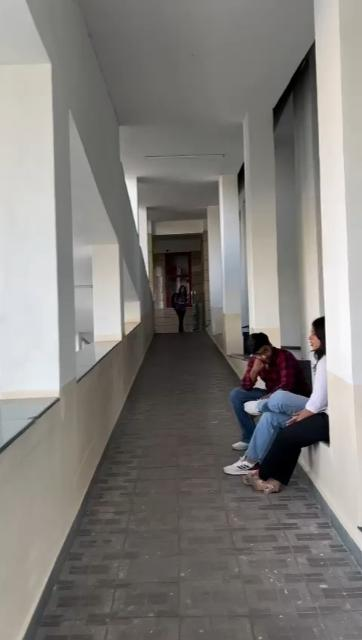floor: (35, 337, 362, 639)
moving-obj: (229, 308, 335, 502)
wall: (0, 315, 155, 640), (10, 6, 66, 394), (235, 183, 362, 334), (326, 4, 362, 506), (92, 80, 127, 340), (241, 110, 271, 324)
